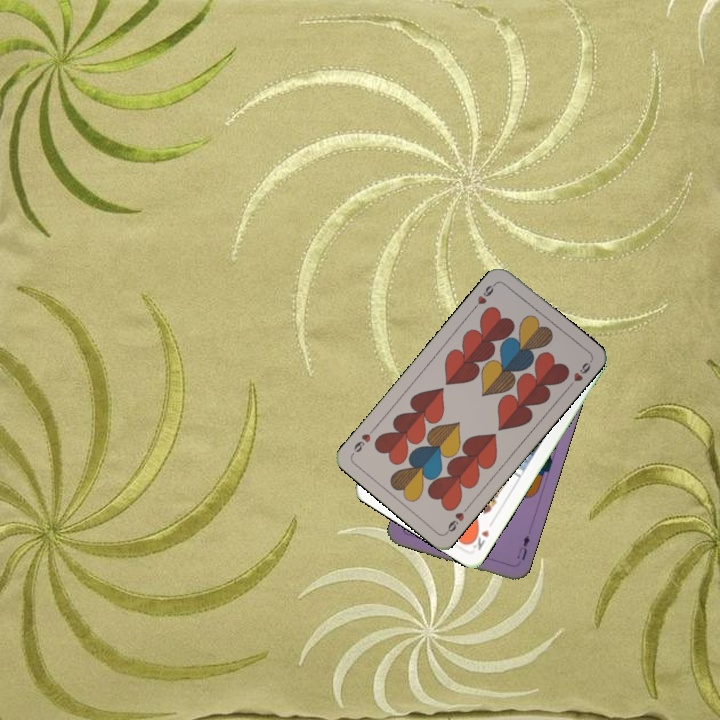EU: (513, 531, 532, 563)
H9: (442, 502, 472, 536), (469, 278, 499, 312)
HK: (465, 525, 492, 553)
